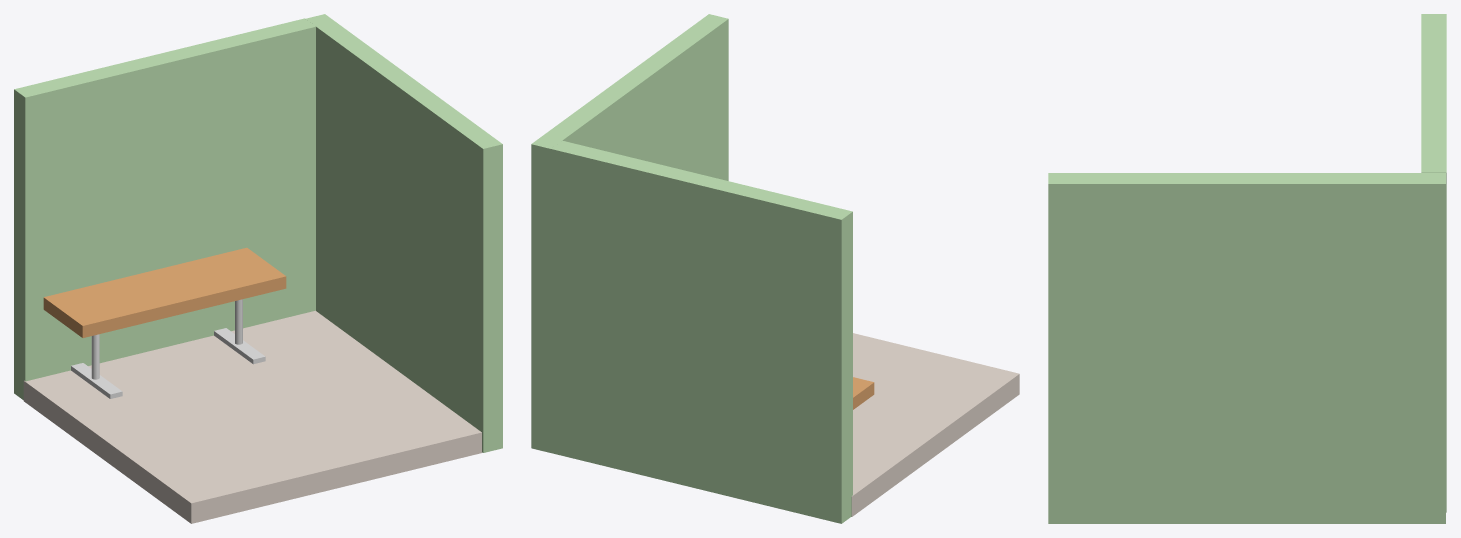
Rendered from room.glb.
The picture shows the model from 3 angles, left to right: view 1: azimuth 30°, elevation 25°; view 2: azimuth 150°, elevation 25°; view 3: azimuth 270°, elevation 25°; orthographic projection. The views are drawn at different scales.
Visible parts, largest first — view 1: Wall 01, Wall 02, Ground, Table, Pied 01, Pied 02; view 2: Wall 01, Wall 02, Ground; view 3: Wall 02, Wall 01.
Part boxes in pixels (<box>): Wall 01: <box>14,18,315,399</box>; Wall 02: <box>305,14,502,452</box>; Ground: <box>23,310,481,523</box>; Table: <box>43,247,286,337</box>; Pied 01: <box>71,363,122,398</box>; Pied 02: <box>214,328,265,364</box>; Wall 01: <box>551,140,852,523</box>; Wall 02: <box>531,14,728,452</box>; Ground: <box>851,333,1019,516</box>; Wall 02: <box>1048,173,1445,523</box>; Wall 01: <box>1421,14,1446,512</box>.
Size of the model in its own units: 2.14 by 2 by 2.12.
